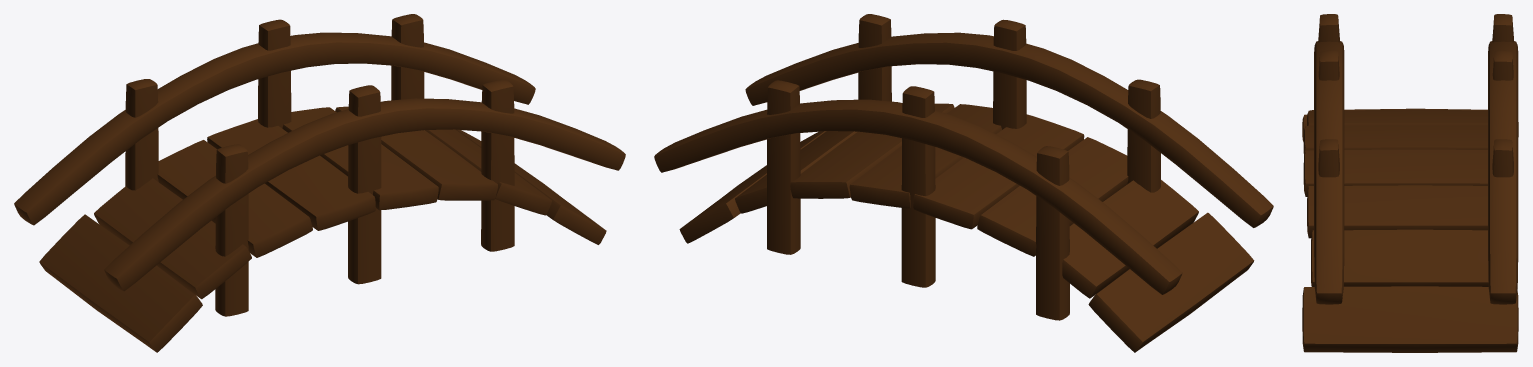
Rendered from Bridge_Small.fbx.
3 renders of one model, left to right at view 1: azimuth 30°, elevation 25°; view 2: azimuth 150°, elevation 25°; view 3: azimuth 270°, elevation 25°, orthographic. The views are drawn at different scales.
Parts seen in each view (by area): view 1: Bridge_Small; view 2: Bridge_Small; view 3: Bridge_Small.
Boxes of the visible parts, <box> form: Bridge_Small: <box>14,14,625,352</box>; Bridge_Small: <box>654,14,1273,352</box>; Bridge_Small: <box>1302,14,1518,352</box>.
Bounding box in the file's own units: 694 × 262 × 264.
